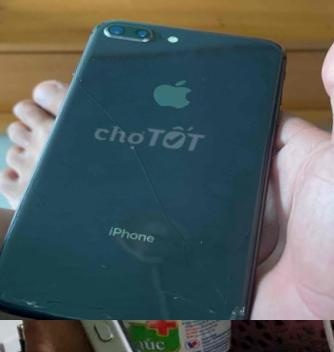physical_damage: (38, 66, 266, 282), (0, 282, 206, 320), (204, 289, 239, 320)
scratch: (86, 10, 159, 47)
